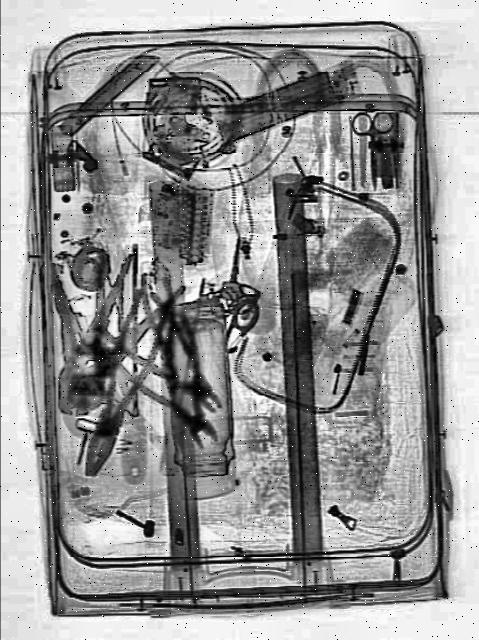Pliers: (36, 236, 186, 437), (110, 299, 246, 471), (67, 275, 177, 485), (122, 300, 234, 434)
